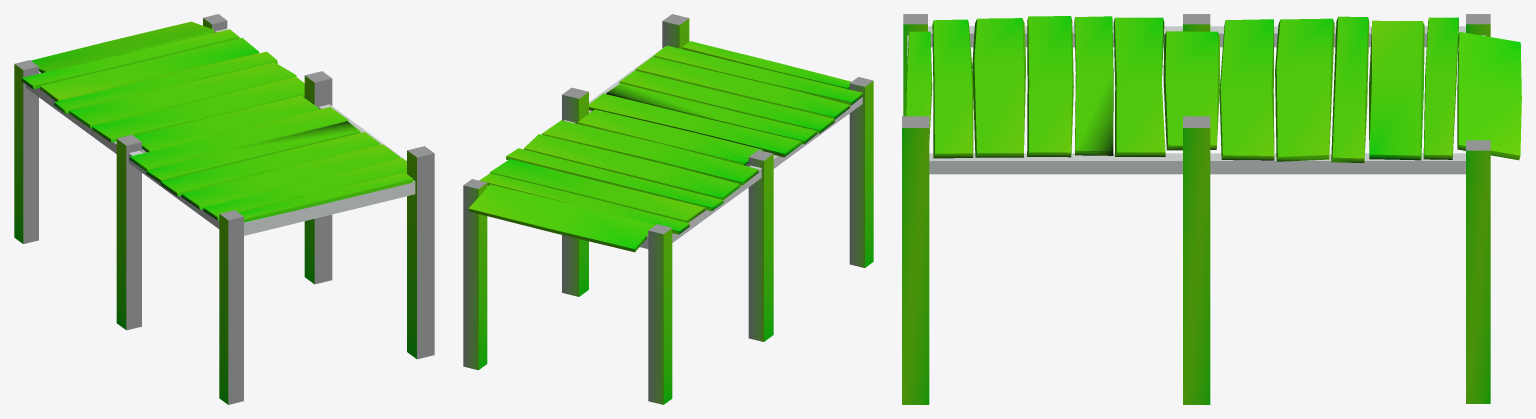
3 views of the same model, side by side, from view 1: azimuth 30°, elevation 25°; view 2: azimuth 150°, elevation 25°; view 3: azimuth 270°, elevation 25° (orthographic). The views are drawn at different scales.
Visible parts, largest first — view 1: G:\FFXIV-MapTools\exports\f1f1\bg\ffxiv\fst_f1\fld\f1f1\bgpa; view 2: G:\FFXIV-MapTools\exports\f1f1\bg\ffxiv\fst_f1\fld\f1f1\bgpa; view 3: G:\FFXIV-MapTools\exports\f1f1\bg\ffxiv\fst_f1\fld\f1f1\bgpa.
Boxes of the visible parts, box(x1,y1,x2,y2) form: G:\FFXIV-MapTools\exports\f1f1\bg\ffxiv\fst_f1\fld\f1f1\bgpa: box(14, 14, 434, 404); G:\FFXIV-MapTools\exports\f1f1\bg\ffxiv\fst_f1\fld\f1f1\bgpa: box(463, 14, 873, 404); G:\FFXIV-MapTools\exports\f1f1\bg\ffxiv\fst_f1\fld\f1f1\bgpa: box(902, 14, 1521, 404).
Size of the model in its own units: 4.8 by 4.35 by 8.82.
